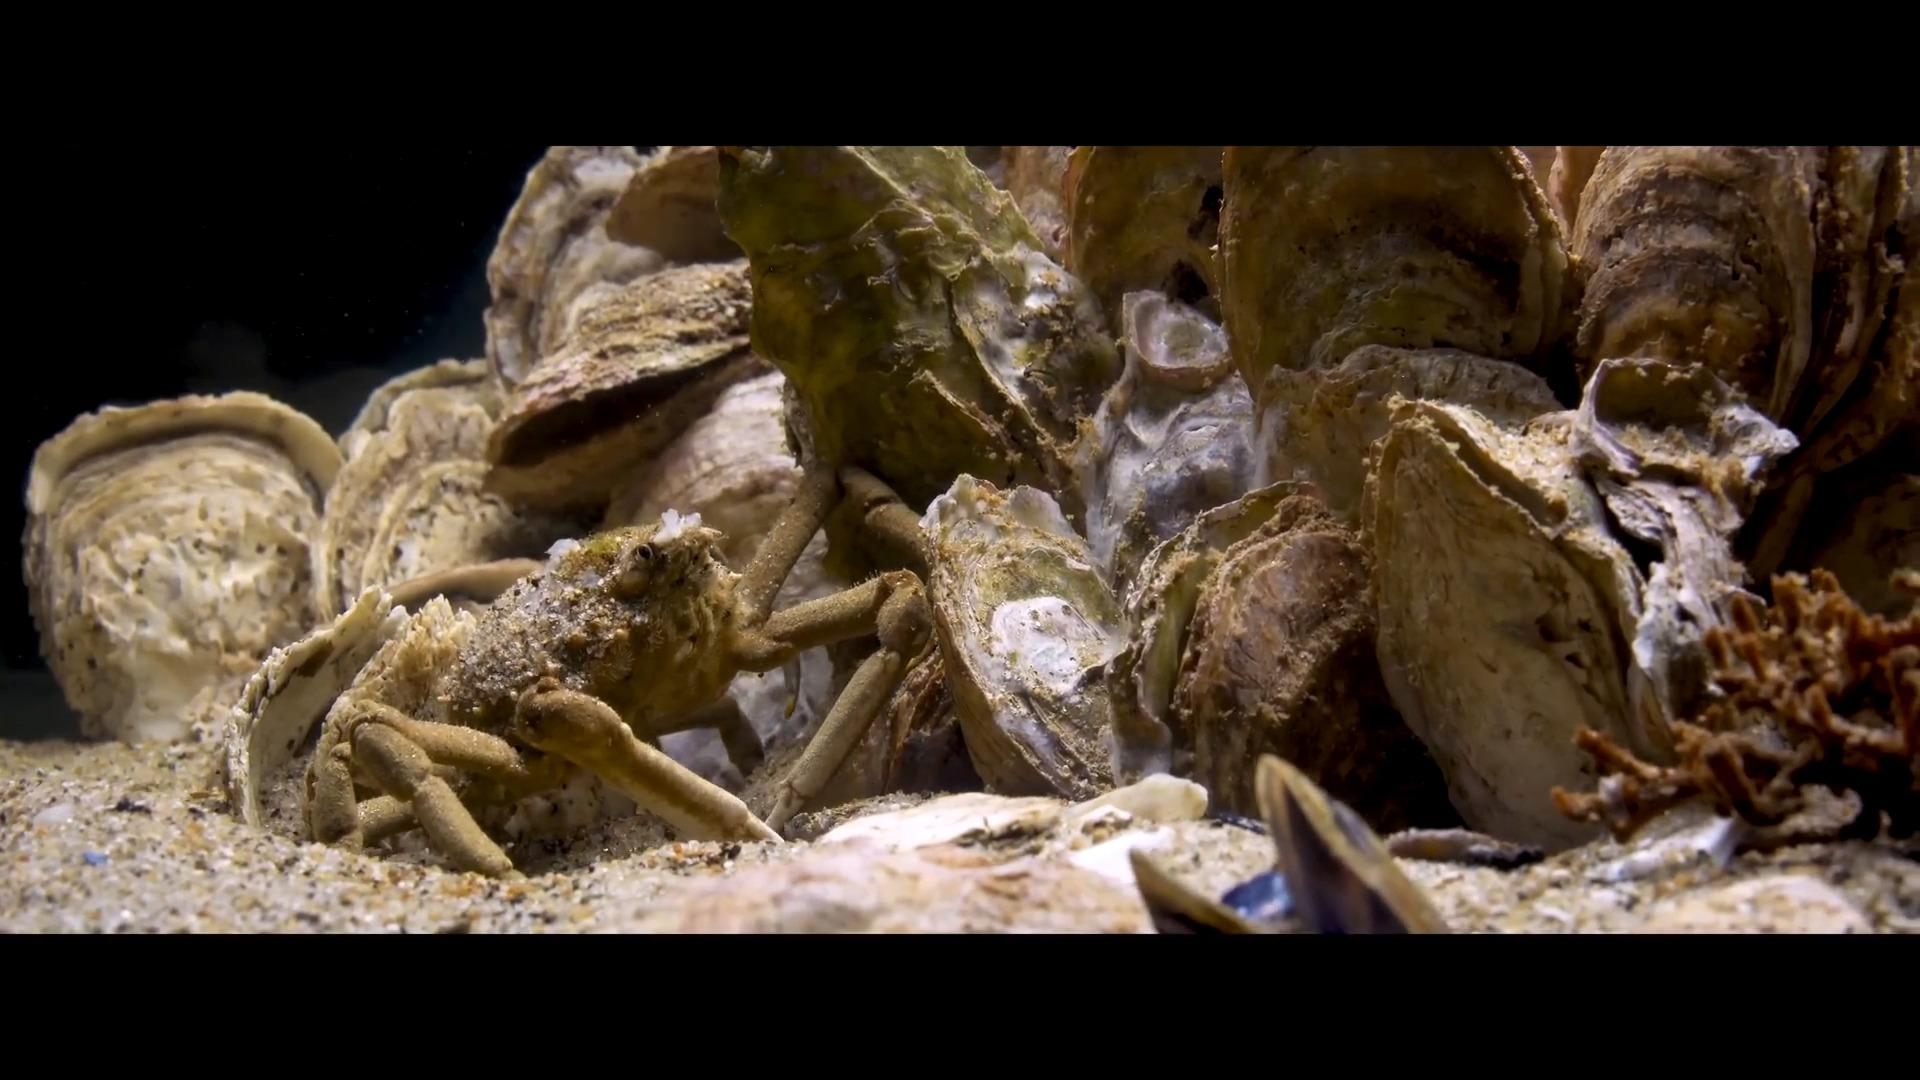Oyster: (25, 372, 533, 749), (712, 145, 1088, 509), (1571, 146, 1919, 526), (1360, 402, 1636, 844), (1058, 162, 1283, 688), (480, 152, 773, 525), (1218, 146, 1571, 388), (1178, 509, 1410, 825), (918, 477, 1131, 802), (1064, 144, 1226, 320)
